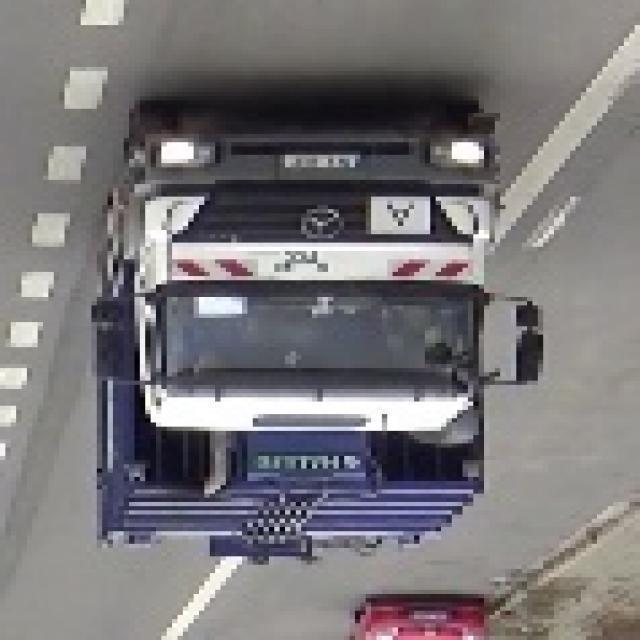Truck: (80, 92, 544, 569)
